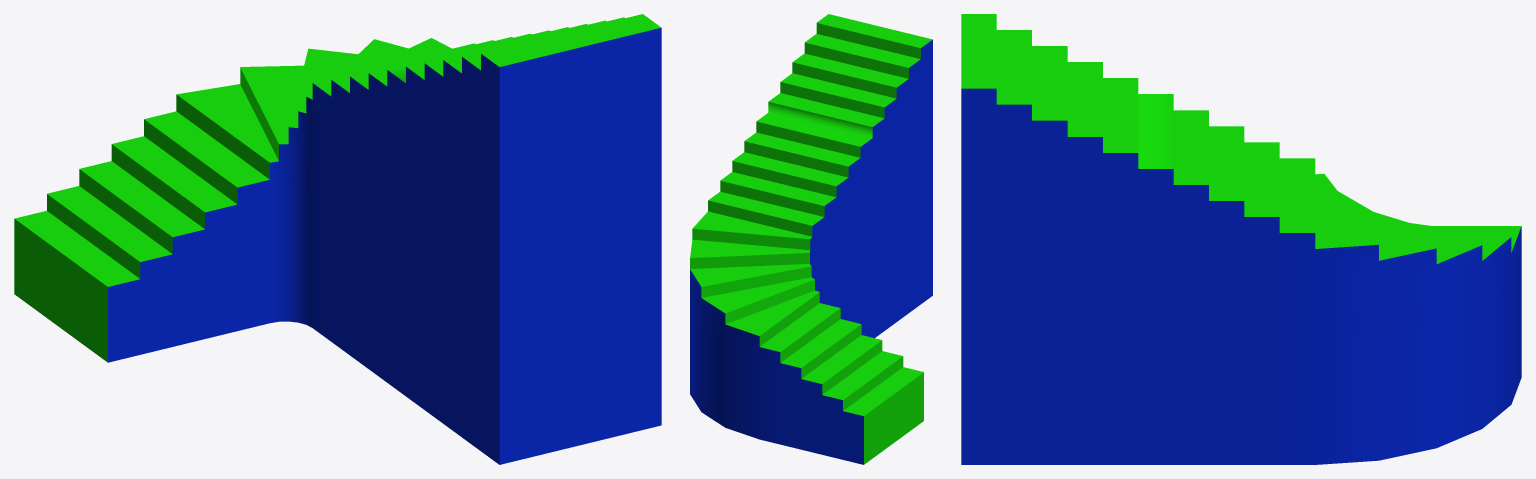
File: SM_StairsCurved_c.fbx
The picture shows the model from 3 angles, left to right: view 1: azimuth 30°, elevation 25°; view 2: azimuth 150°, elevation 25°; view 3: azimuth 270°, elevation 25°; orthographic projection. The views are drawn at different scales.
Parts seen in each view (by area): view 1: StairsCurved_c; view 2: StairsCurved_c; view 3: StairsCurved_c.
Part boxes in pixels (x1,y1,x2,y2): StairsCurved_c: (14, 14, 661, 464); StairsCurved_c: (690, 14, 932, 464); StairsCurved_c: (961, 14, 1521, 464).
Size of the model in its own units: 650 by 704 by 950.
